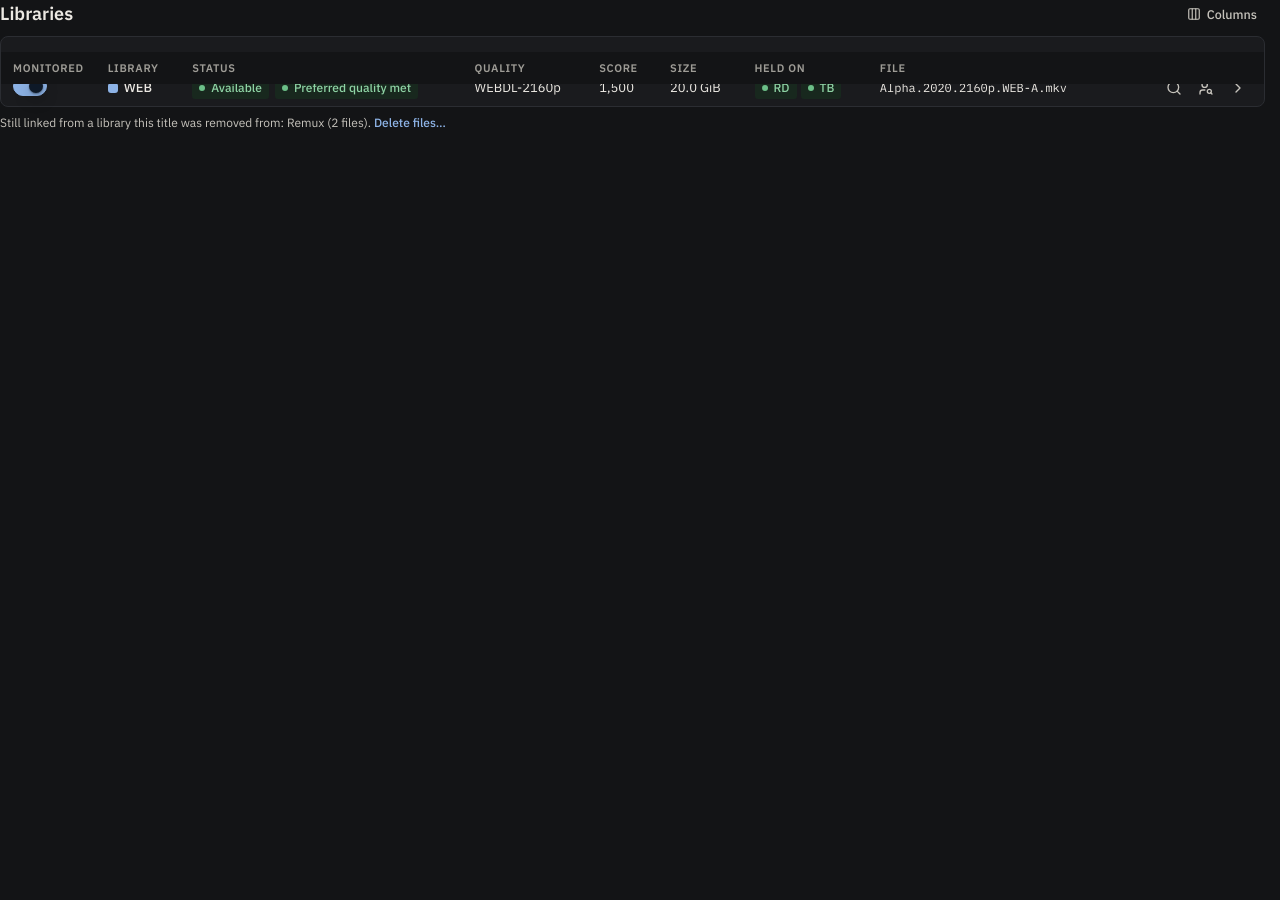
Scenario: Libraries table › has no row for a removed library and names its leftover links
Expected: the number of rows with test id "library-row" is 1, 1,69 -> 1264,106
Expected: the element with test id "library-leftover" shows "Still linked from a library this title was removed from: Remux (2 files).", 0,114 -> 446,130
Click the button with test id "leftover-remove-movie-remux" at (410, 122), box 374,114 -> 446,130
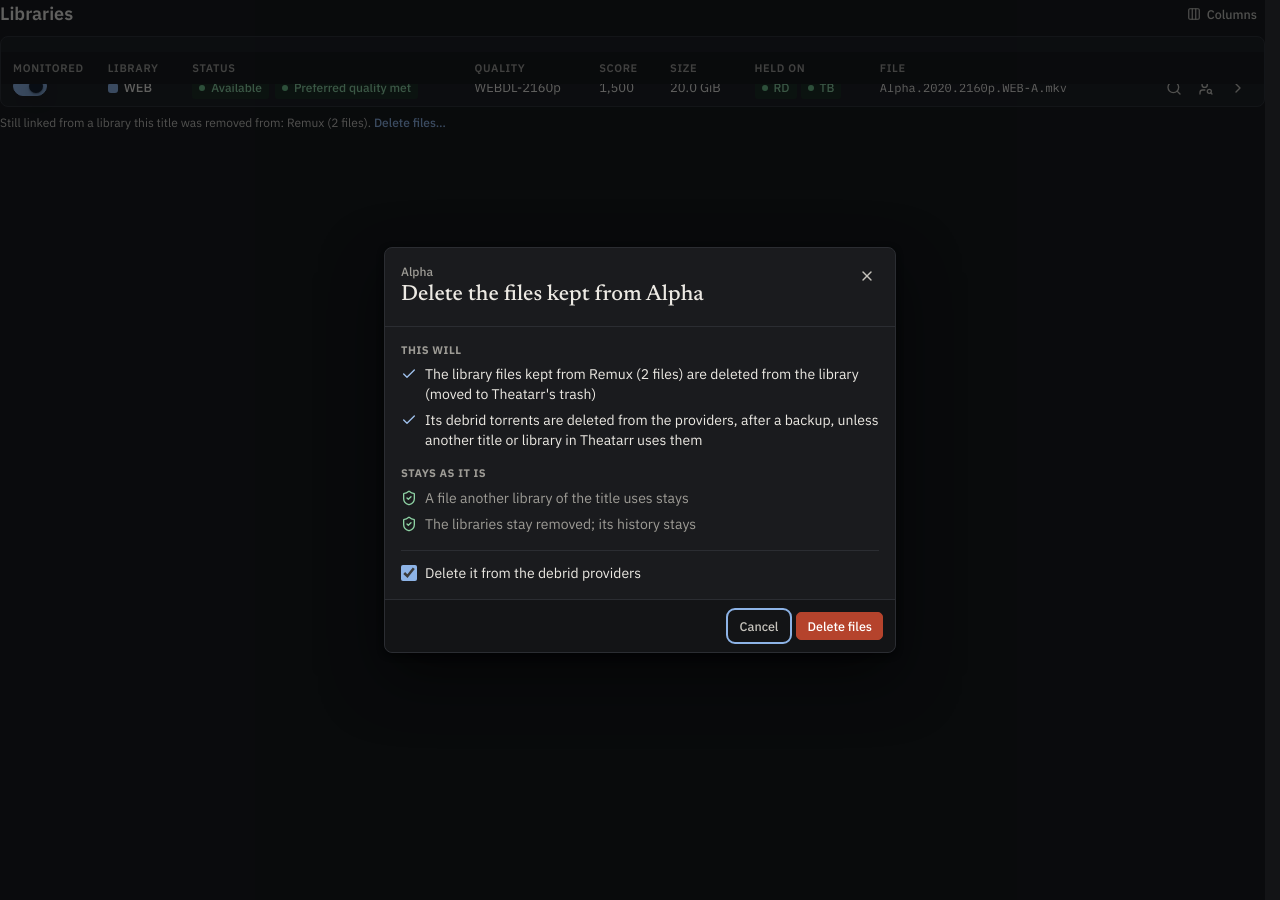
Result: the element with test id "remove-dialog" is shown
